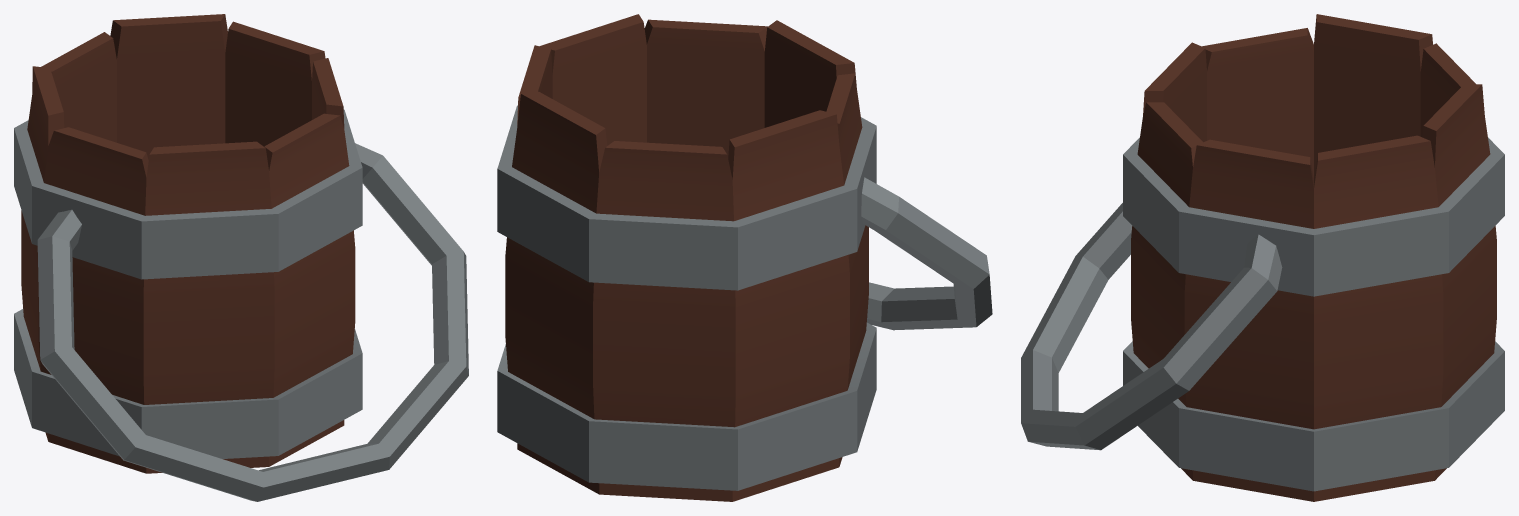
Rendered from empty_bucket.fbx.
The picture shows the model from 3 angles, left to right: view 1: azimuth 30°, elevation 25°; view 2: azimuth 150°, elevation 25°; view 3: azimuth 270°, elevation 25°; orthographic projection. The views are drawn at different scales.
Parts seen in each view (by area): view 1: empty_bucket; view 2: empty_bucket; view 3: empty_bucket.
Boxes of the visible parts, x1=… form: empty_bucket: x1=14, y1=14, x2=468, y2=501; empty_bucket: x1=497, y1=14, x2=992, y2=501; empty_bucket: x1=1021, y1=14, x2=1504, y2=501.
Bounding box in the file's own units: 5.23 × 3.85 × 4.86.
